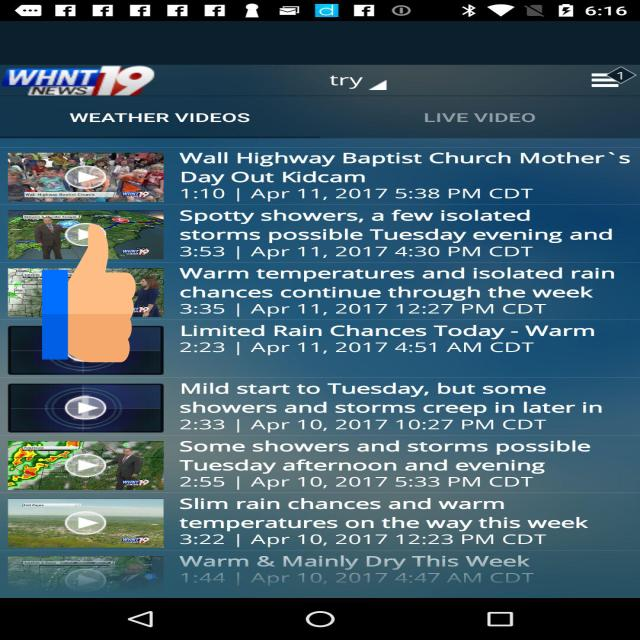privacy zuckering: (42, 220, 136, 366)
